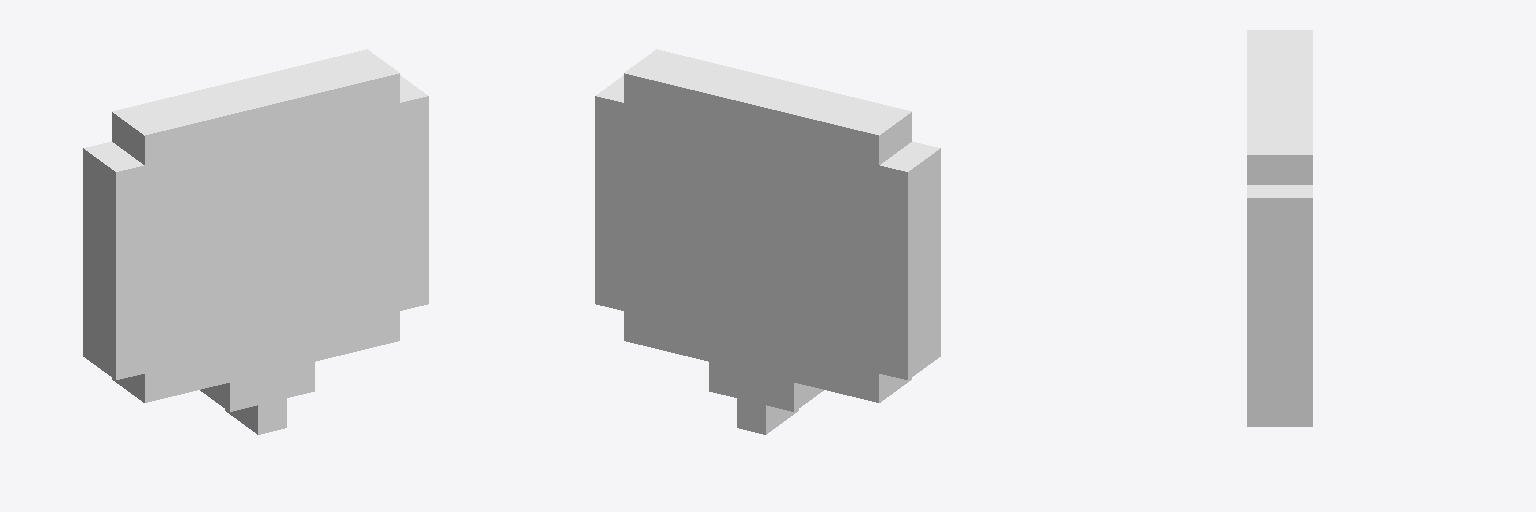
The model's file is action_moving.obj.
3 views of the same model, side by side, from view 1: azimuth 30°, elevation 25°; view 2: azimuth 150°, elevation 25°; view 3: azimuth 270°, elevation 25° (orthographic).
Parts seen in each view (by area): view 1: object 1; view 2: object 1; view 3: object 1.
Part boxes in pixels (x1,y1,x2,y2): object 1: (83,49,428,434); object 1: (595,49,940,434); object 1: (1247,30,1312,426).
Bounding box in the file's own units: 1.1 × 1.1 × 0.2.